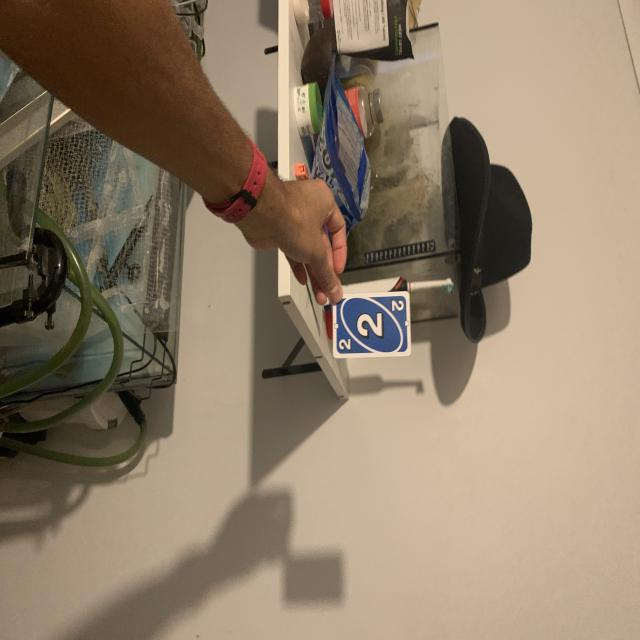lblue-2: (387, 296, 406, 316)
